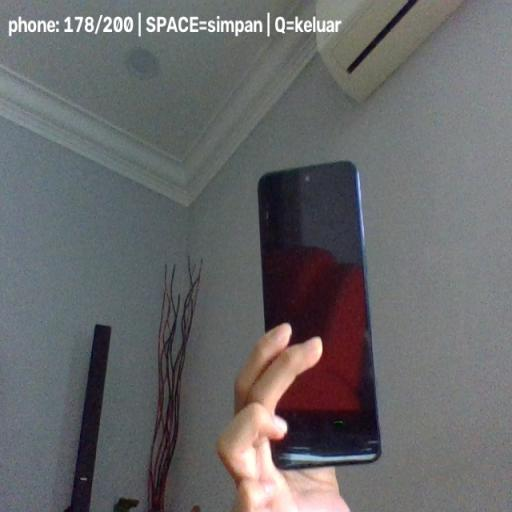Phone: (257, 161, 382, 469)
